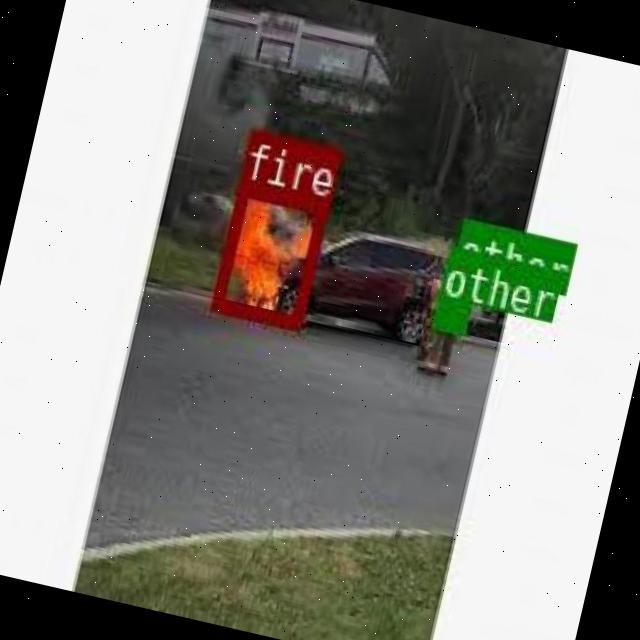fire: (208, 177, 329, 328)
